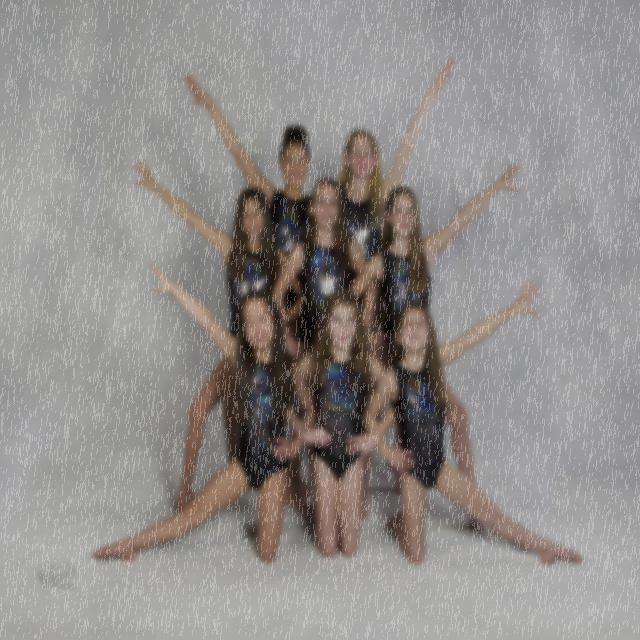pessoa: (86, 260, 320, 571), (357, 276, 585, 572), (348, 158, 524, 532), (132, 156, 314, 515), (185, 70, 314, 502), (272, 177, 380, 526), (336, 55, 456, 332), (284, 287, 398, 560)
